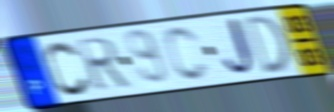9: (127, 27, 172, 90)
C: (162, 25, 211, 84), (44, 39, 92, 98)
D: (242, 12, 294, 78)
J: (221, 15, 258, 80)
R: (74, 35, 133, 94)
